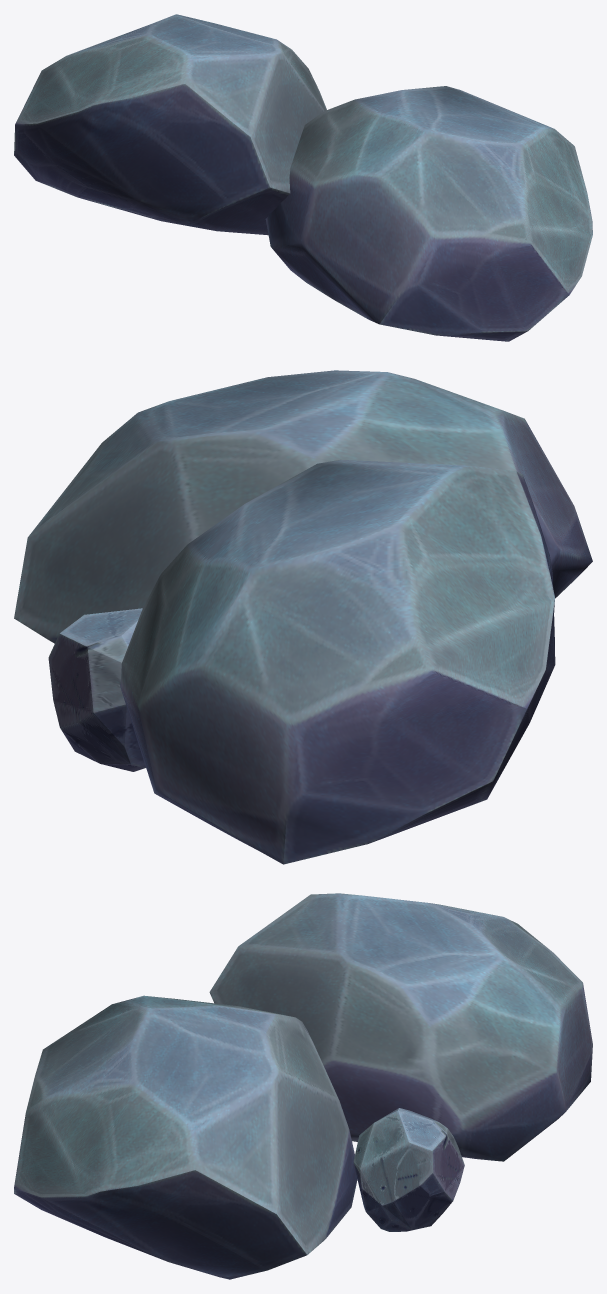
The model's file is rocks.glb.
3 renders of one model, top to bottom at view 1: azimuth 30°, elevation 25°; view 2: azimuth 150°, elevation 25°; view 3: azimuth 270°, elevation 25°, orthographic. The views are drawn at different scales.
Visible parts, largest first — view 1: Rock_03, Rock_02; view 2: Rock_02, Rock_03, Rock2_02; view 3: Rock_03, Rock_02, Rock2_02.
Boxes of the visible parts, bbox=[...] form: Rock_03: bbox=[265, 86, 592, 341]; Rock_02: bbox=[14, 14, 326, 235]; Rock_02: bbox=[120, 459, 555, 864]; Rock_03: bbox=[14, 370, 592, 643]; Rock2_02: bbox=[48, 608, 145, 771]; Rock_03: bbox=[14, 995, 357, 1279]; Rock_02: bbox=[209, 893, 592, 1161]; Rock2_02: bbox=[353, 1108, 464, 1231].
Size of the model in its own units: 0.2698 by 0.1423 by 0.3014.
Materials: 2 (2 with a texture image).
